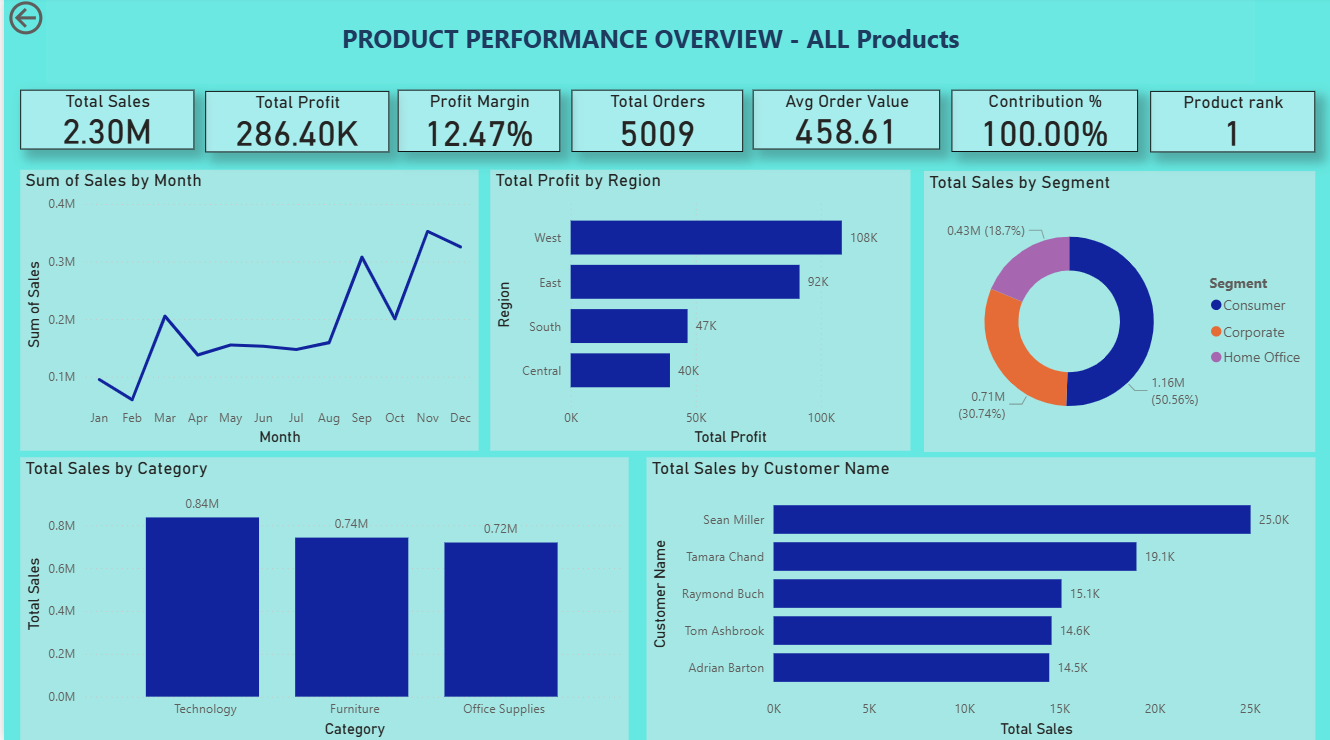

Layout of this report page (visuals, bound fields, positions):
{"tool":"powerbi","page":{"name":"Product Overview","canvas":[1280,720],"ordinal":1},"visuals":[{"type":"actionButton","box":[0,0,74.8,42.2],"z":0},{"type":"card","title":"Total Sales","fields":{"Values":["Sales.Total Sales"]},"box":[15.7,90.5,167.7,57.9],"z":1000},{"type":"card","title":"Total Profit","fields":{"Values":["Sales.Total Profit"]},"box":[194.2,91.7,177.3,59.1],"z":2000},{"type":"card","title":"Total Orders","fields":{"Values":["Sales.Total Orders"]},"box":[547.7,90.5,165.3,60.3],"z":3000},{"type":"lineChart","fields":{"Category":["DateTable.Month"],"Y":["Sum(Sales.Sales)"]},"box":[15.7,167.7,442.8,271.4],"z":4000},{"type":"clusteredBarChart","fields":{"Category":["Sales.Region"],"Y":["Sales.Total Profit"]},"box":[469.3,167.7,405.4,271.4],"z":5000},{"type":"card","title":"Avg Order Value","fields":{"Values":["Sales.Avg Order Value"]},"box":[722.7,90.5,181,57.9],"z":6000},{"type":"clusteredColumnChart","fields":{"Category":["Sales.Category"],"Y":["Sales.Total Sales"]},"box":[15.7,445.2,587.5,275.1],"z":7000},{"type":"donutChart","fields":{"Category":["Sales.Segment"],"Y":["Sales.Total Sales"]},"box":[887.9,168.9,377.6,271.4],"z":8000},{"type":"card","title":"Contribution %","fields":{"Values":["Sales.Product Contribution %"]},"box":[914.5,90.5,179.8,60.3],"z":9000},{"type":"clusteredBarChart","fields":{"Category":["Sales.Customer Name"],"Y":["Sales.Total Sales"]},"box":[620.1,445.2,645.4,275.1],"z":10000},{"type":"card","title":"Profit Margin","fields":{"Values":["Sales.Profit Margin %"]},"box":[380,90.5,156.8,60.3],"z":11000},{"type":"card","title":"Product rank","fields":{"Values":["Sales.Product Rank"]},"box":[1106.3,91.7,159.3,59.1],"z":12000},{"type":"card","fields":{"Values":["Sales.Product Title"]},"box":[41,0,1166.6,84.5],"z":13000}]}

Visuals, with their boxes in screenshot pixels (x1, y1, x2, y2), scaled from the page's 1280x720 canvas onto the 1330x740 screenshot:
actionButton: <region>0, 0, 78, 43</region>
"Total Sales" card: <region>16, 93, 191, 153</region>
"Total Profit" card: <region>202, 94, 386, 155</region>
"Total Orders" card: <region>569, 93, 741, 155</region>
lineChart - DateTable.Month x Sum(Sales.Sales): <region>16, 172, 476, 451</region>
clusteredBarChart - Sales.Region x Sales.Total Profit: <region>488, 172, 909, 451</region>
"Avg Order Value" card: <region>751, 93, 939, 153</region>
clusteredColumnChart - Sales.Category x Sales.Total Sales: <region>16, 458, 627, 739</region>
donutChart - Sales.Segment x Sales.Total Sales: <region>923, 174, 1315, 453</region>
"Contribution %" card: <region>950, 93, 1137, 155</region>
clusteredBarChart - Sales.Customer Name x Sales.Total Sales: <region>644, 458, 1315, 739</region>
"Profit Margin" card: <region>395, 93, 558, 155</region>
"Product rank" card: <region>1150, 94, 1315, 155</region>
card - Sales.Product Title: <region>43, 0, 1255, 87</region>
